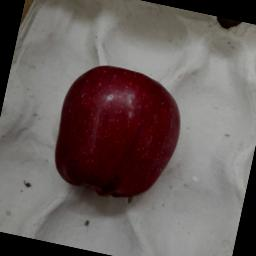Apple Ripe: (42, 52, 192, 212)
